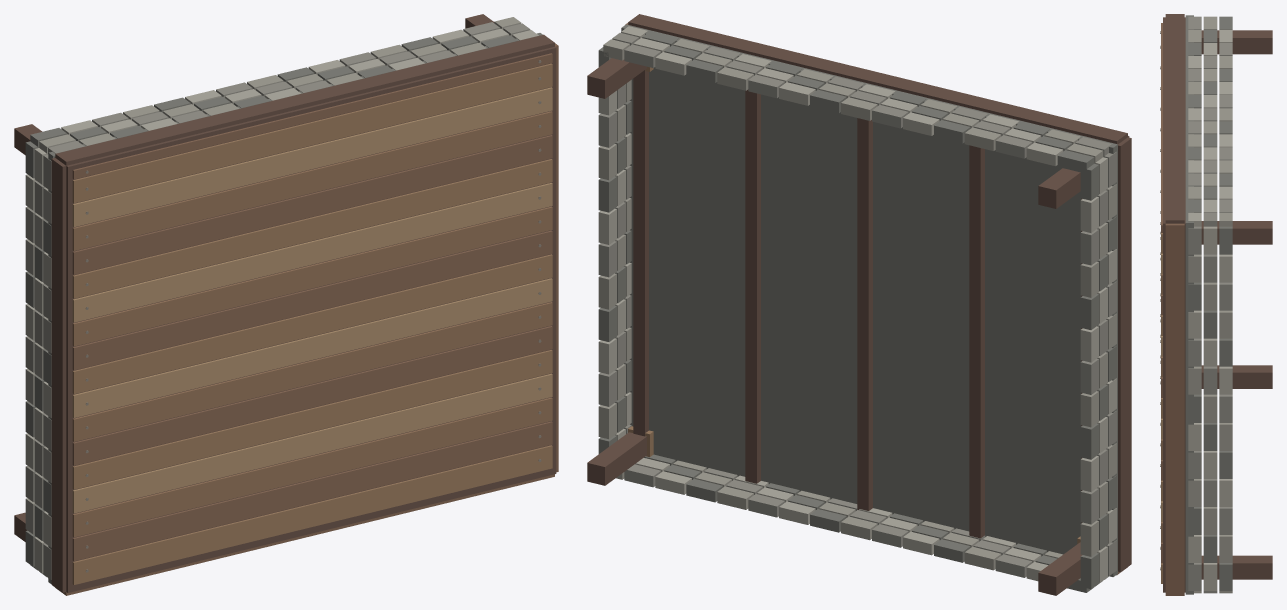
Rendered from raised_platform_6x5_stone_foundation.glb.
3 views of the same model, side by side, from view 1: azimuth 30°, elevation 25°; view 2: azimuth 150°, elevation 25°; view 3: azimuth 270°, elevation 25° (orthographic). The views are drawn at different scales.
Visible parts, largest first — view 1: raised_platform_6x5_stone_foundation_000, raised_platform_6x5_stone_foundation_004, raised_platform_6x5_stone_foundation_007, raised_platform_6x5_stone_foundation_019, raised_platform_6x5_stone_foundation_013, raised_platform_6x5_stone_foundation_025, raised_platform_6x5_stone_foundation_040, raised_platform_6x5_stone_foundation_046, raised_platform_6x5_stone_foundation_010, raised_platform_6x5_stone_foundation_031, raised_platform_6x5_stone_foundation_028, raised_platform_6x5_stone_foundation_034 (+11 smaller); view 2: raised_platform_6x5_stone_foundation_246, raised_platform_6x5_stone_foundation_058, raised_platform_6x5_stone_foundation_061, raised_platform_6x5_stone_foundation_062, raised_platform_6x5_stone_foundation_060, raised_platform_6x5_stone_foundation_057, raised_platform_6x5_stone_foundation_063, raised_platform_6x5_stone_foundation_068, raised_platform_6x5_stone_foundation_070, raised_platform_6x5_stone_foundation_064, raised_platform_6x5_stone_foundation_066; view 3: raised_platform_6x5_stone_foundation_056, raised_platform_6x5_stone_foundation_058, raised_platform_6x5_stone_foundation_000, raised_platform_6x5_stone_foundation_246, raised_platform_6x5_stone_foundation_066, raised_platform_6x5_stone_foundation_068, raised_platform_6x5_stone_foundation_064, raised_platform_6x5_stone_foundation_070, raised_platform_6x5_stone_foundation_226, raised_platform_6x5_stone_foundation_229, raised_platform_6x5_stone_foundation_232, raised_platform_6x5_stone_foundation_235 (+84 smaller).
Boxes of the visible parts, x1,y1,x2,y2 form: raised_platform_6x5_stone_foundation_000: (54, 46, 556, 592); raised_platform_6x5_stone_foundation_004: (72, 421, 552, 561); raised_platform_6x5_stone_foundation_007: (72, 397, 552, 537); raised_platform_6x5_stone_foundation_019: (72, 302, 552, 441); raised_platform_6x5_stone_foundation_013: (72, 350, 552, 489); raised_platform_6x5_stone_foundation_025: (72, 254, 552, 394); raised_platform_6x5_stone_foundation_040: (72, 135, 552, 274); raised_platform_6x5_stone_foundation_046: (72, 87, 552, 226); raised_platform_6x5_stone_foundation_010: (72, 373, 552, 513); raised_platform_6x5_stone_foundation_031: (72, 206, 552, 346); raised_platform_6x5_stone_foundation_028: (72, 230, 552, 370); raised_platform_6x5_stone_foundation_034: (72, 183, 552, 322); raised_platform_6x5_stone_foundation_246: (621, 24, 1117, 576); raised_platform_6x5_stone_foundation_058: (628, 14, 1127, 144); raised_platform_6x5_stone_foundation_061: (857, 118, 872, 510); raised_platform_6x5_stone_foundation_062: (745, 89, 760, 483); raised_platform_6x5_stone_foundation_060: (969, 145, 984, 538); raised_platform_6x5_stone_foundation_057: (1118, 137, 1131, 572); raised_platform_6x5_stone_foundation_063: (633, 70, 648, 436); raised_platform_6x5_stone_foundation_068: (587, 432, 646, 485); raised_platform_6x5_stone_foundation_070: (587, 58, 646, 98); raised_platform_6x5_stone_foundation_064: (1038, 542, 1082, 595); raised_platform_6x5_stone_foundation_066: (1038, 168, 1080, 208); raised_platform_6x5_stone_foundation_056: (1165, 223, 1184, 593); raised_platform_6x5_stone_foundation_058: (1165, 14, 1184, 223); raised_platform_6x5_stone_foundation_000: (1163, 17, 1185, 592); raised_platform_6x5_stone_foundation_246: (1185, 15, 1193, 594); raised_platform_6x5_stone_foundation_066: (1201, 30, 1272, 54); raised_platform_6x5_stone_foundation_068: (1201, 555, 1272, 579); raised_platform_6x5_stone_foundation_064: (1201, 365, 1272, 388); raised_platform_6x5_stone_foundation_070: (1201, 221, 1272, 244); raised_platform_6x5_stone_foundation_226: (1203, 394, 1217, 422); raised_platform_6x5_stone_foundation_229: (1203, 366, 1217, 394); raised_platform_6x5_stone_foundation_232: (1203, 338, 1217, 366); raised_platform_6x5_stone_foundation_235: (1203, 310, 1217, 338).
Size of the model in its own units: 6.09 by 5.09 by 1.38.
